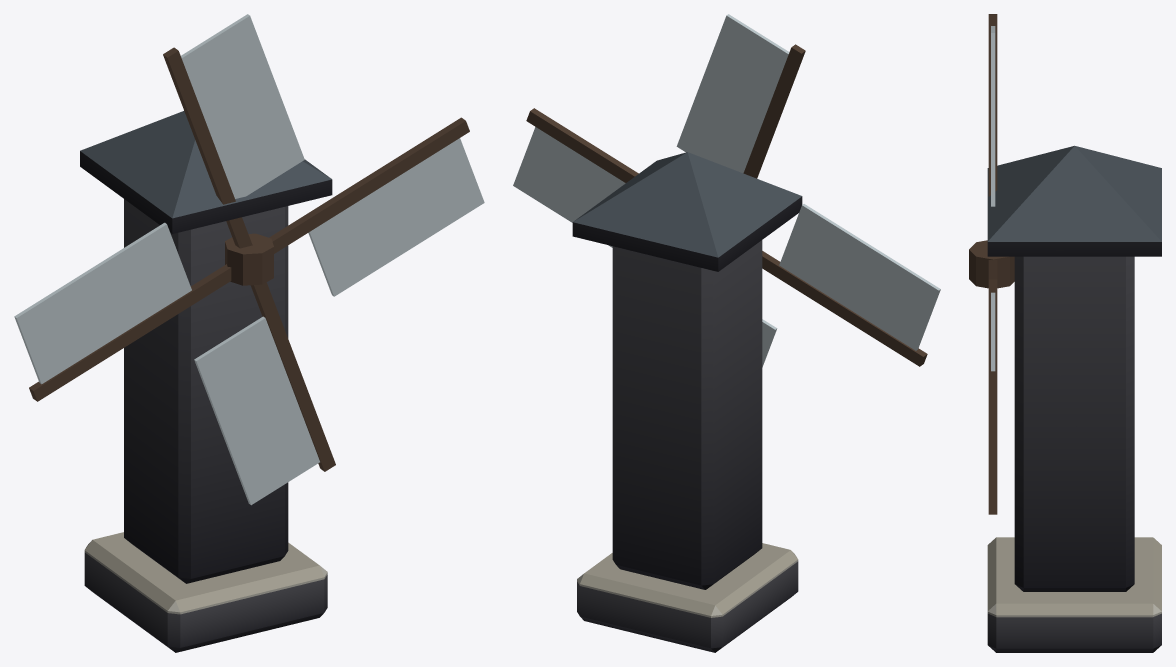
Rendered from windmill.glb.
3 views of the same model, side by side, from view 1: azimuth 30°, elevation 25°; view 2: azimuth 150°, elevation 25°; view 3: azimuth 270°, elevation 25° (orthographic). The views are drawn at different scales.
Visible parts, largest first — view 1: Windmill, Windmill_Rotor; view 2: Windmill, Windmill_Rotor; view 3: Windmill, Windmill_Rotor.
Boxes of the visible parts, box(x1,y1,x2,y2) form: Windmill: box(80, 111, 332, 652); Windmill_Rotor: box(14, 14, 484, 505); Windmill: box(572, 152, 802, 652); Windmill_Rotor: box(513, 14, 940, 367); Windmill: box(987, 145, 1161, 652); Windmill_Rotor: box(969, 14, 1014, 514).
Size of what is drawn, in the model's own units: 4.68 by 5.94 by 1.77.
